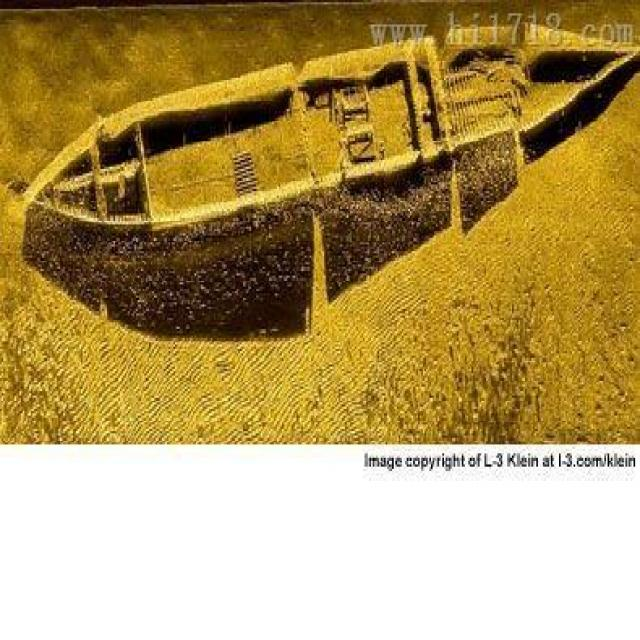ship: (16, 20, 638, 238)
